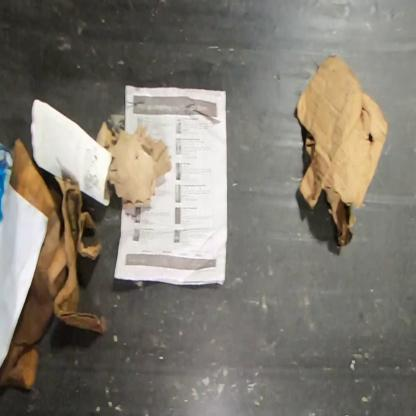cardboard: (0, 136, 108, 393), (296, 54, 389, 249), (0, 141, 16, 236)
